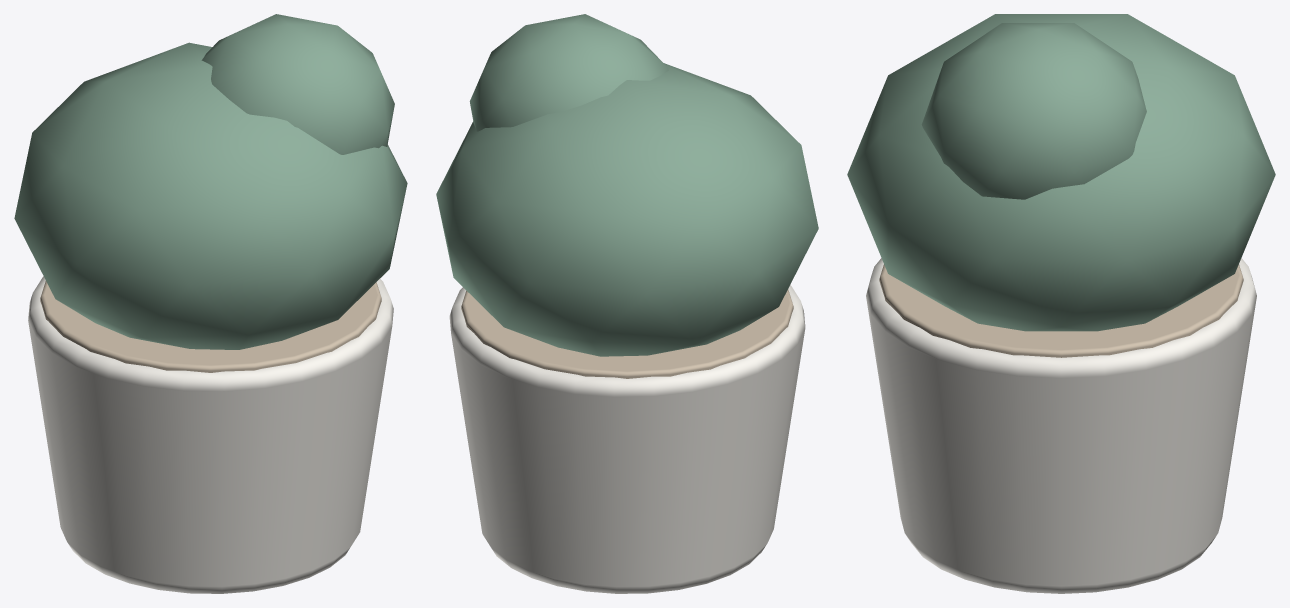
Rendered from plantPot.glb.
The picture shows the model from 3 angles, left to right: view 1: azimuth 30°, elevation 25°; view 2: azimuth 150°, elevation 25°; view 3: azimuth 270°, elevation 25°; orthographic projection. The views are drawn at different scales.
Visible parts, largest first — view 1: plantPot; view 2: plantPot; view 3: plantPot.
Boxes of the visible parts, x1=… form: plantPot: x1=14, y1=14, x2=407, y2=593; plantPot: x1=436, y1=14, x2=818, y2=593; plantPot: x1=847, y1=14, x2=1275, y2=593.
Size of the model in its own units: 0.35 by 0.51 by 0.368.
